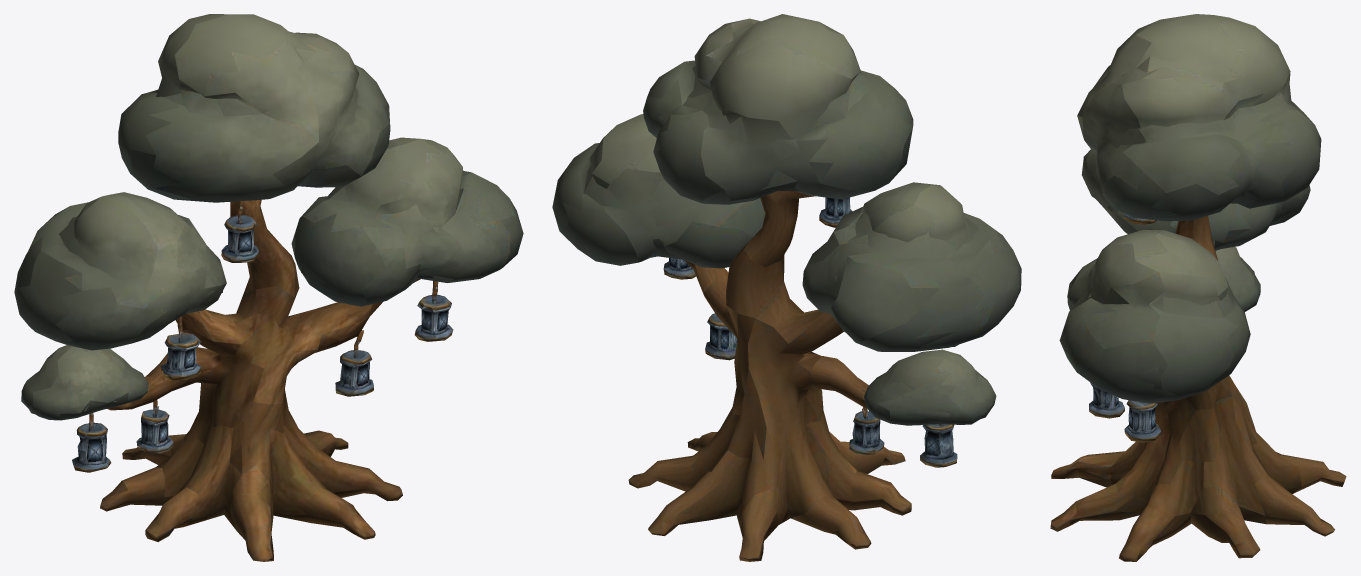
The model's file is lantern_tree.glb.
3 views of the same model, side by side, from view 1: azimuth 30°, elevation 25°; view 2: azimuth 150°, elevation 25°; view 3: azimuth 270°, elevation 25° (orthographic).
Visible parts, largest first — view 1: mesh_node; view 2: mesh_node; view 3: mesh_node.
Part boxes in pixels (x1,y1,x2,y2): mesh_node: [14, 14, 523, 561]; mesh_node: [552, 14, 1021, 561]; mesh_node: [1050, 14, 1346, 561].
Bounding box in the file's own units: 1 × 1 × 0.5625.
1 material, 1 textured.
